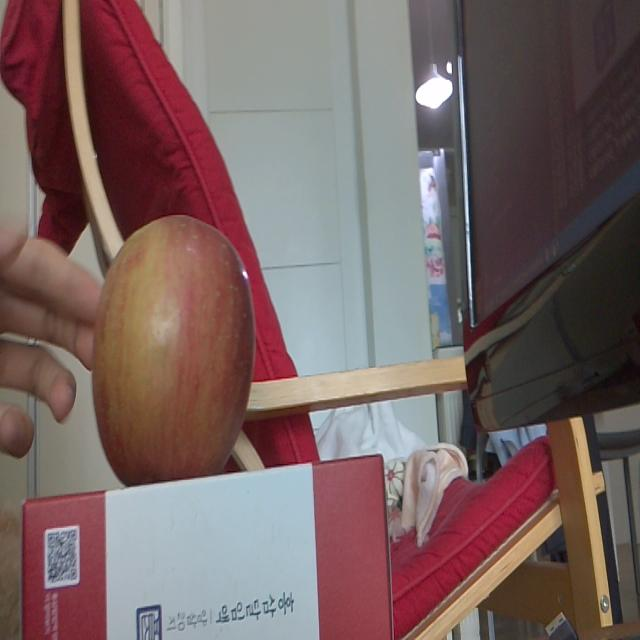apple: (89, 206, 255, 478)
